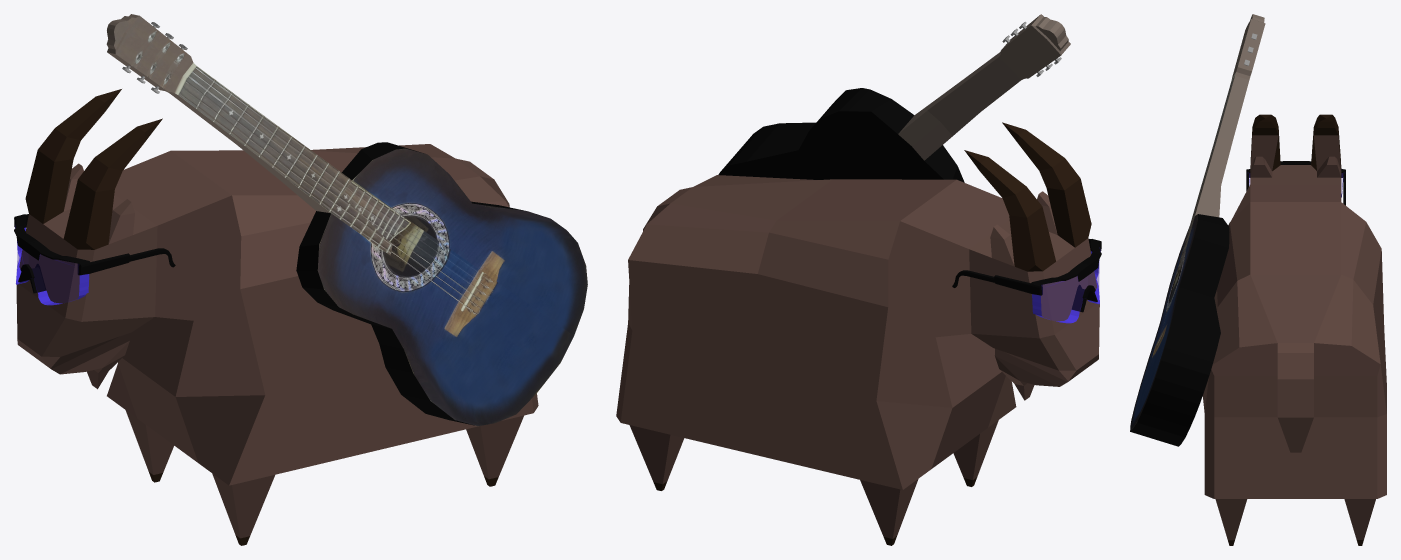
Rendered from GOAT.glb.
3 views of the same model, side by side, from view 1: azimuth 30°, elevation 25°; view 2: azimuth 150°, elevation 25°; view 3: azimuth 270°, elevation 25° (orthographic). The views are drawn at different scales.
Parts seen in each view (by area): view 1: Cube, Cylinder.001, Cylinder; view 2: Cube, Cylinder.001, Cylinder; view 3: Cube, Cylinder.001, Cylinder.
Part boxes in pixels (box(x1,y1,x2,y2)): Cube: box(16, 89, 538, 545); Cylinder.001: box(106, 14, 587, 426); Cylinder: box(14, 214, 175, 305); Cube: box(616, 122, 1099, 545); Cylinder.001: box(718, 14, 1070, 182); Cylinder: box(952, 238, 1101, 323); Cube: box(1202, 114, 1386, 545); Cylinder.001: box(1130, 14, 1265, 446); Cylinder: box(1246, 161, 1345, 205).
Bounding box in the file's own units: 4.49 × 4.89 × 2.82.
Materials: 9 (1 with a texture image).
